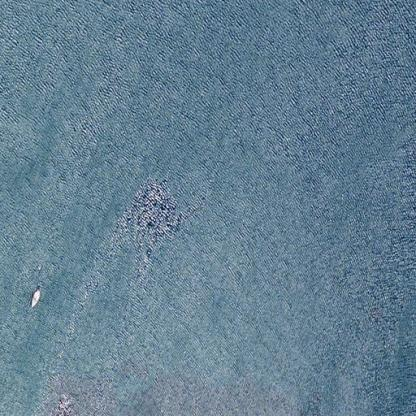ship: (24, 281, 45, 316)
